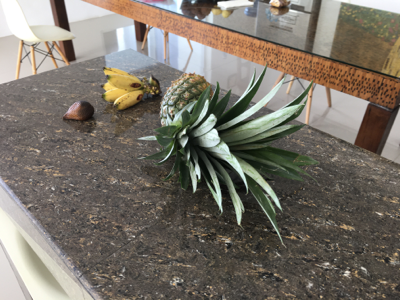banana: (102, 65, 160, 115)
pineapple: (152, 73, 324, 248)
snake fruit: (63, 100, 95, 122)
